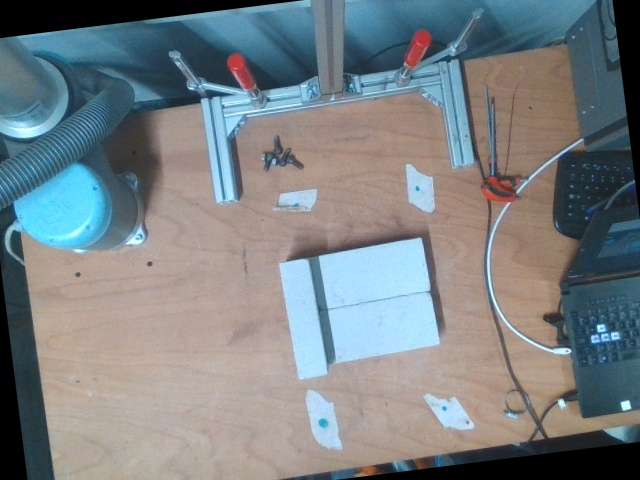brick-side: (277, 256, 329, 381)
